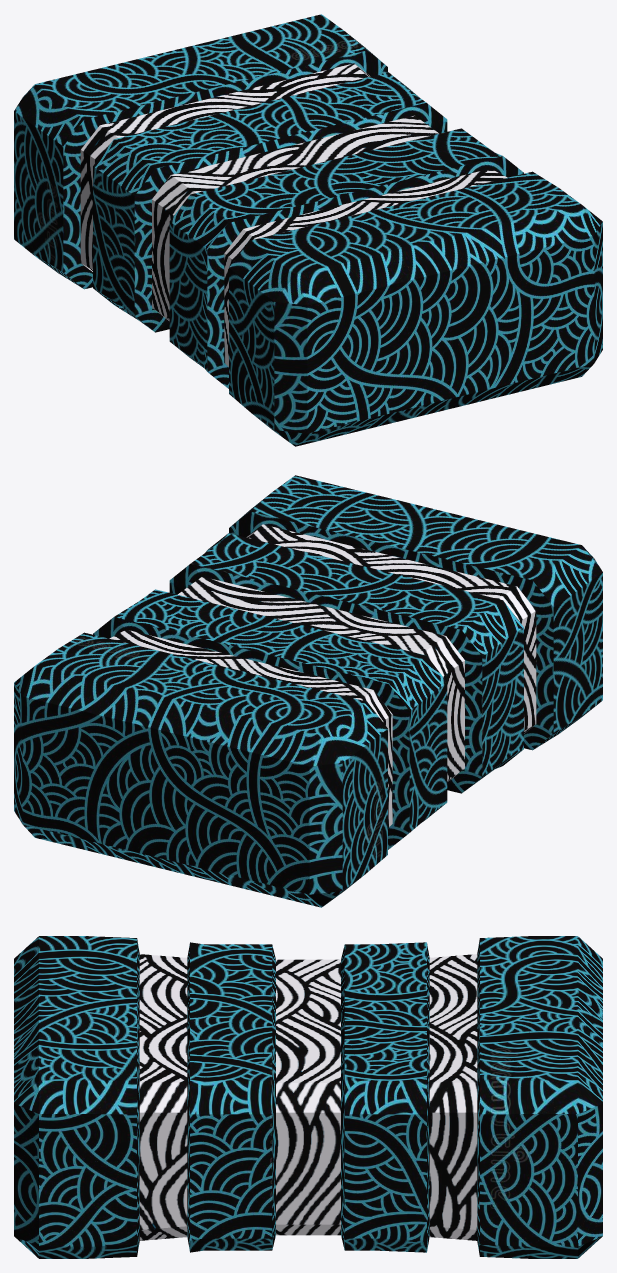
File: DestroyBlock.fbx
3 views of the same model, one above another, from view 1: azimuth 30°, elevation 25°; view 2: azimuth 150°, elevation 25°; view 3: azimuth 270°, elevation 25° (orthographic). The views are drawn at different scales.
Parts seen in each view (by area): view 1: DestroyBox, Line; view 2: DestroyBox, Line; view 3: DestroyBox, Line.
Part boxes in pixels (x1=…): DestroyBox: x1=14, y1=14, x2=602, y2=446; Line: x1=93, y1=72, x2=523, y2=388; DestroyBox: x1=14, y1=475, x2=602, y2=907; Line: x1=93, y1=533, x2=523, y2=849; DestroyBox: x1=14, y1=936, x2=602, y2=1258; Line: x1=187, y1=942, x2=429, y2=1252.
Bounding box in the file's own units: 420 × 210 × 630.
